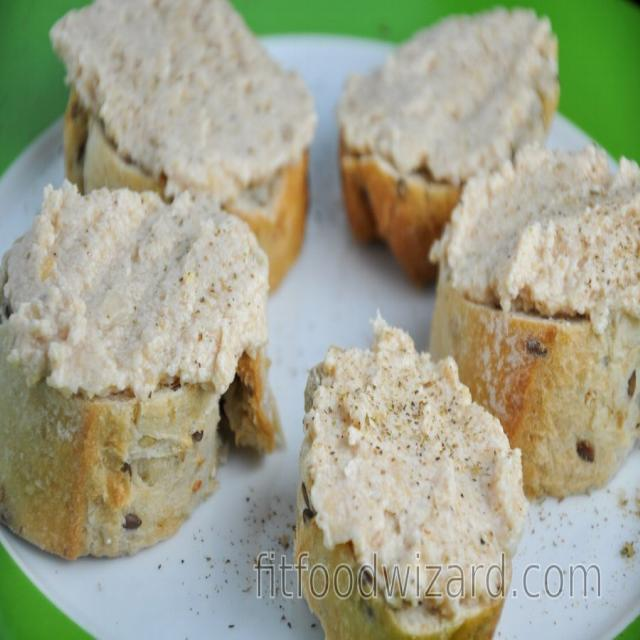Spread: (306, 328, 530, 616), (6, 180, 272, 406), (446, 146, 640, 328)
